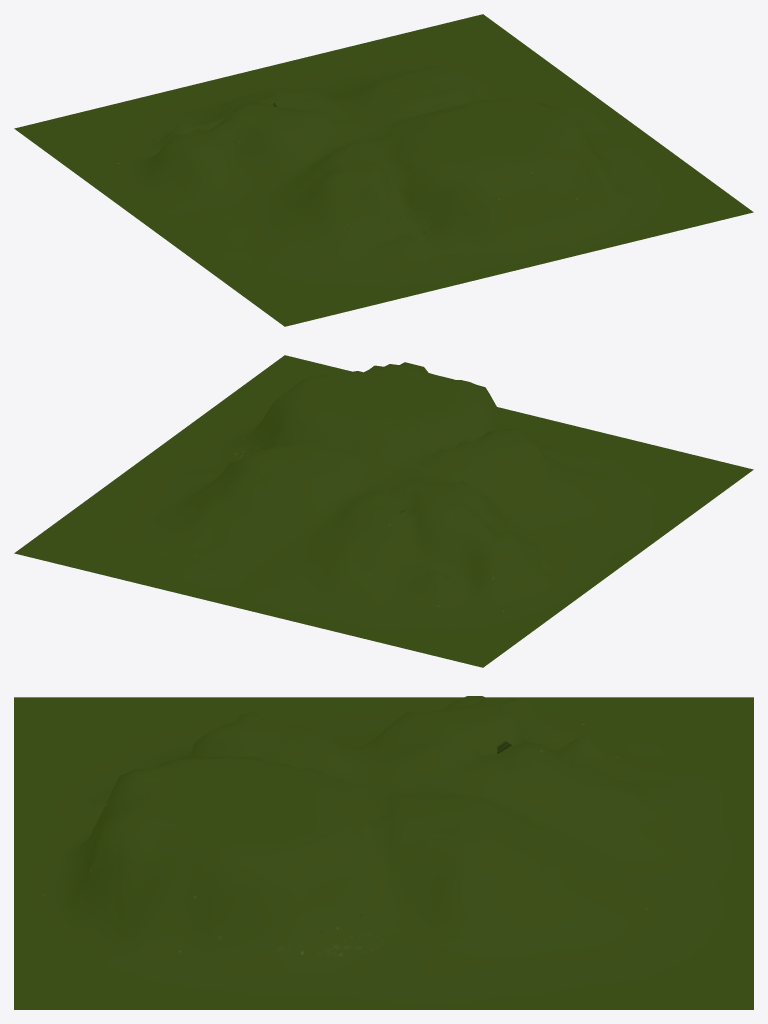
The model's file is island.glb.
The picture shows the model from 3 angles, top to bottom: view 1: azimuth 30°, elevation 25°; view 2: azimuth 150°, elevation 25°; view 3: azimuth 270°, elevation 25°; orthographic projection. The views are drawn at different scales.
Parts seen in each view (by area): view 1: island; view 2: island; view 3: island.
Part boxes in pixels (bbox=[...]): island: bbox=[14, 14, 753, 326]; island: bbox=[14, 355, 753, 667]; island: bbox=[14, 696, 753, 1009].
Size of the model in its own units: 15.86 by 1.98 by 15.86.
